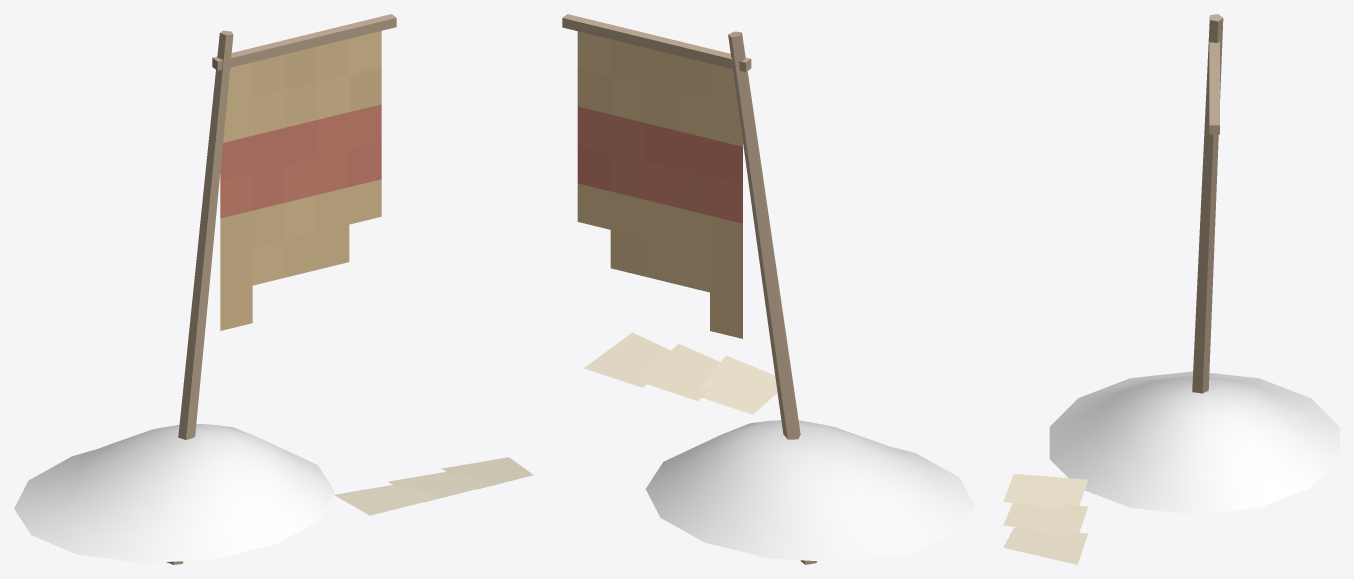
Rendered from caravana_tela.glb.
3 views of the same model, side by side, from view 1: azimuth 30°, elevation 25°; view 2: azimuth 150°, elevation 25°; view 3: azimuth 270°, elevation 25° (orthographic). The views are drawn at different scales.
Parts seen in each view (by area): view 1: caravana_tela_tela, caravana_tela_arena, caravana_tela; view 2: caravana_tela_tela, caravana_tela_arena, caravana_tela; view 3: caravana_tela_arena, caravana_tela_tela, caravana_tela.
Boxes of the visible parts, x1,y1,x2,y2 form: caravana_tela_tela: [220, 31, 533, 515]; caravana_tela_arena: [14, 423, 334, 563]; caravana_tela: [166, 14, 396, 564]; caravana_tela_tela: [577, 31, 777, 414]; caravana_tela_arena: [645, 420, 974, 562]; caravana_tela: [562, 14, 817, 564]; caravana_tela_arena: [1049, 371, 1339, 514]; caravana_tela_tela: [1003, 474, 1087, 564]; caravana_tela: [1192, 14, 1223, 393].
Bounding box in the file's own units: 2.35 × 2.71 × 1.58.
